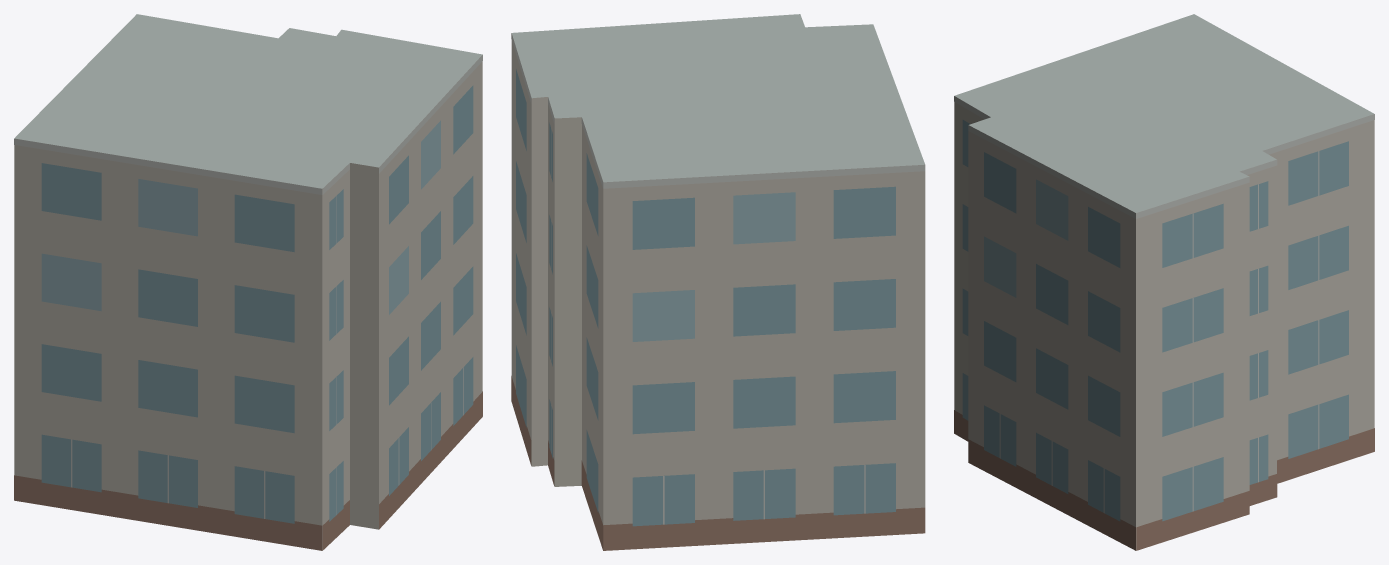
Rendered from survey-upis-33011603.glb.
3 views of the same model, side by side, from view 1: azimuth 30°, elevation 25°; view 2: azimuth 150°, elevation 25°; view 3: azimuth 270°, elevation 25° (orthographic). The views are drawn at different scales.
Visible parts, largest first — view 1: survey-upis-33011603.tmp; view 2: survey-upis-33011603.tmp; view 3: survey-upis-33011603.tmp.
Boxes of the visible parts, bbox=[...] form: survey-upis-33011603.tmp: bbox=[14, 14, 482, 550]; survey-upis-33011603.tmp: bbox=[511, 14, 925, 550]; survey-upis-33011603.tmp: bbox=[954, 14, 1374, 550].
Bounding box in the file's own units: 17.59 × 13.9 × 15.7.
